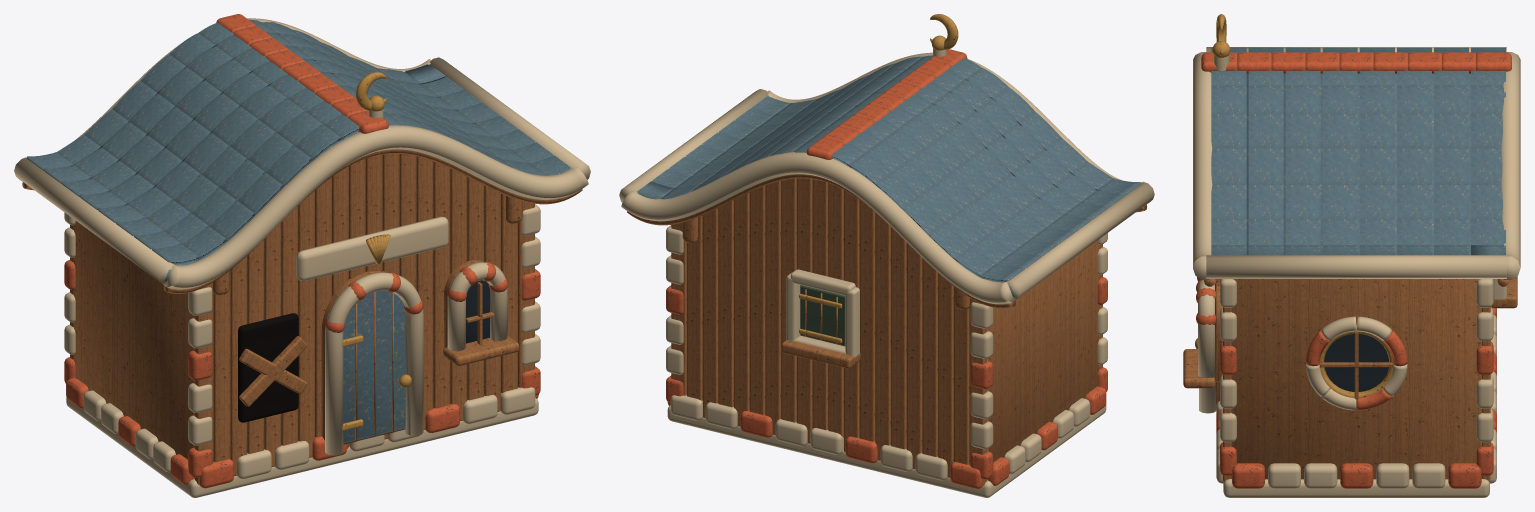
The model's file is B7_木板房_分享包版.glb.
3 renders of one model, left to right at view 1: azimuth 30°, elevation 25°; view 2: azimuth 150°, elevation 25°; view 3: azimuth 270°, elevation 25°, orthographic. The views are drawn at different scales.
Parts seen in each view (by area): view 1: Closed cottage shell, Sculpted ivory eave, Inset door, Rounded sandstone arch, Decorative ivory lintel, Stone foundation, Boarded left opening, Side roof closed lip, Individual vertical oak siding.006, Individual vertical oak siding.014, Individual vertical oak siding.013, Individual vertical oak siding.001 (+77 smaller); view 2: Closed cottage shell, Sculpted ivory eave.001, Individual vertical oak siding.027, Individual vertical oak siding.033, Individual vertical oak siding.034, Individual vertical oak siding.026, Stone foundation, Individual vertical oak siding.024, Side roof closed lip, Individual vertical oak siding.035, Individual vertical oak siding.025, Individual vertical oak siding.037 (+73 smaller); view 3: Closed cottage shell, Side roof closed lip.001, Sculpted ivory eave, Sculpted ivory eave.001, Continuous closed curved roof, Stone foundation, Amber round window, Rounded sandstone arch.001, Overlapping rounded roof tile.081, Overlapping rounded roof tile.082, Overlapping rounded roof tile.083, Overlapping rounded roof tile.084 (+95 smaller).
Boxes of the visible parts, left/top/right/bottom form: Closed cottage shell: left=73, top=221, right=194, bottom=478; Sculpted ivory eave: left=163, top=125, right=588, bottom=289; Inset door: left=343, top=290, right=405, bottom=443; Rounded sandstone arch: left=325, top=272, right=423, bottom=455; Decorative ivory lintel: left=296, top=216, right=448, bottom=281; Stone foundation: left=66, top=397, right=538, bottom=497; Boarded left opening: left=238, top=313, right=298, bottom=422; Side roof closed lip: left=14, top=158, right=174, bottom=284; Individual vertical oak siding.006: left=298, top=191, right=314, bottom=457; Individual vertical oak siding.014: left=433, top=161, right=450, bottom=408; Individual vertical oak siding.013: left=416, top=156, right=433, bottom=429; Individual vertical oak siding.001: left=213, top=270, right=230, bottom=461; Closed cottage shell: left=987, top=240, right=1099, bottom=480; Sculpted ivory eave.001: left=621, top=152, right=1015, bottom=304; Individual vertical oak siding.027: left=859, top=200, right=875, bottom=441; Individual vertical oak siding.033: left=765, top=181, right=780, bottom=434; Individual vertical oak siding.034: left=749, top=186, right=765, bottom=414; Individual vertical oak siding.026: left=875, top=213, right=890, bottom=460; Stone foundation: left=667, top=404, right=1106, bottom=497; Individual vertical oak siding.024: left=906, top=242, right=922, bottom=469; Side roof closed lip: left=1005, top=182, right=1154, bottom=299; Individual vertical oak siding.035: left=734, top=192, right=749, bottom=426; Individual vertical oak siding.025: left=891, top=227, right=906, bottom=449; Individual vertical oak siding.037: left=702, top=208, right=718, bottom=417; Closed cottage shell: left=1231, top=279, right=1481, bottom=479; Side roof closed lip.001: left=1206, top=255, right=1506, bottom=278; Sculpted ivory eave: left=1193, top=52, right=1212, bottom=279; Sculpted ivory eave.001: left=1501, top=52, right=1520, bottom=279; Continuous closed curved roof: left=1246, top=74, right=1470, bottom=255; Stone foundation: left=1223, top=479, right=1489, bottom=497; Amber round window: left=1324, top=334, right=1389, bottom=391; Rounded sandstone arch.001: left=1198, top=280, right=1215, bottom=382; Overlapping rounded roof tile.081: left=1248, top=148, right=1283, bottom=184; Overlapping rounded roof tile.082: left=1285, top=148, right=1320, bottom=184; Overlapping rounded roof tile.083: left=1322, top=148, right=1357, bottom=184; Overlapping rounded roof tile.084: left=1359, top=148, right=1394, bottom=184.
Size of the model in its own units: 5.16 by 4.39 by 3.37.
Materials: 8 (8 with a texture image).
